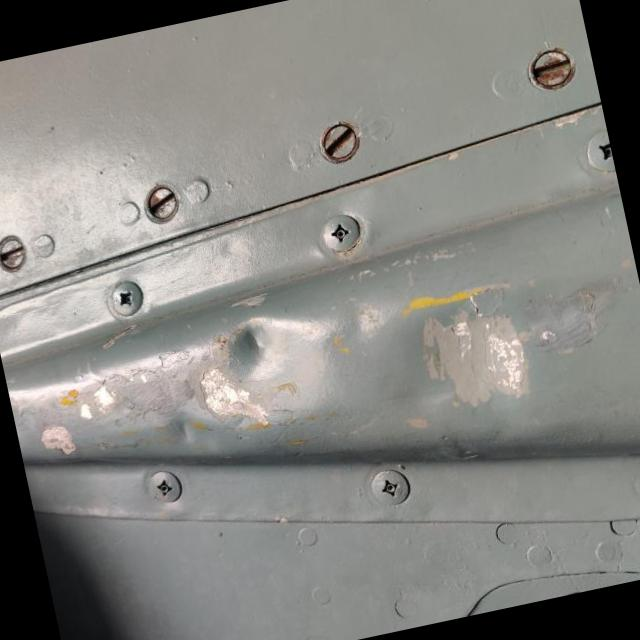Dent: (203, 318, 328, 405)
Paint-off: (420, 295, 597, 408)
